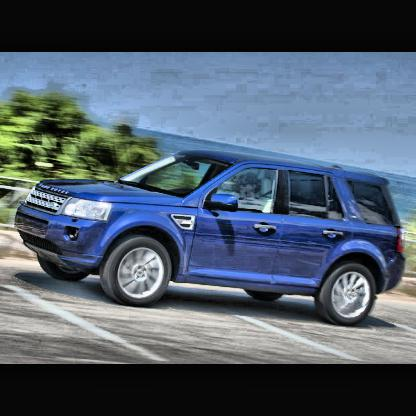Land Rover LR2 SUV 2012: (17, 151, 406, 328)
